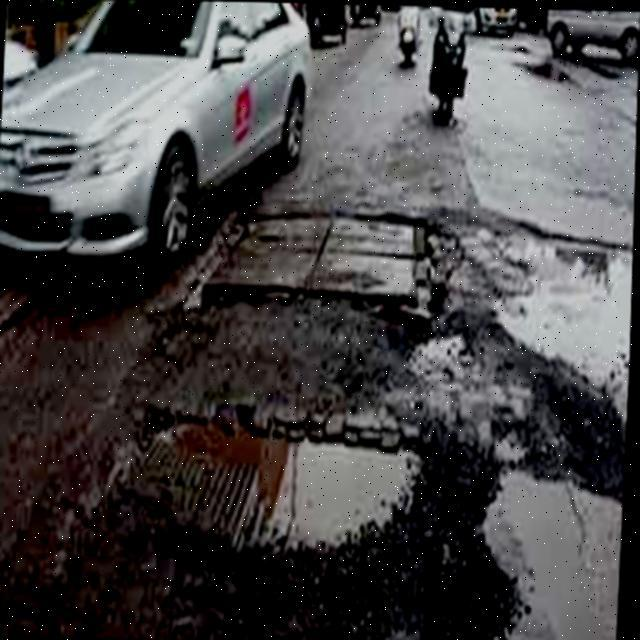pothole: (100, 396, 430, 562), (469, 429, 628, 640), (490, 217, 635, 409)
